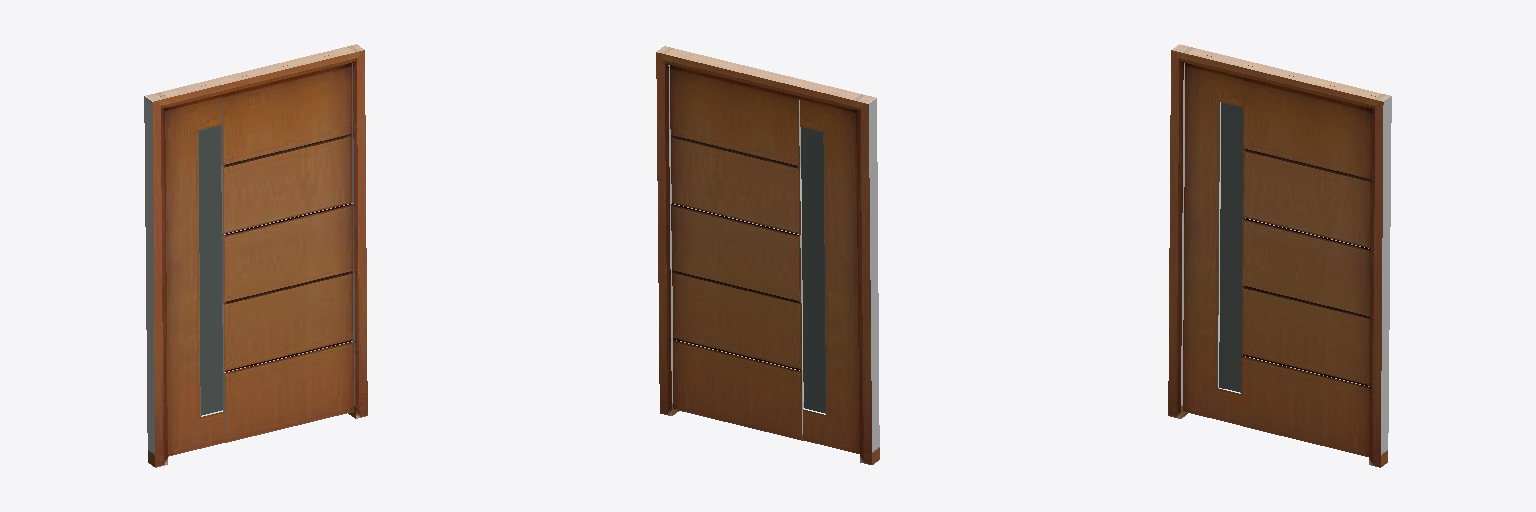
3 views of the same model, side by side, from view 1: azimuth 30°, elevation 25°; view 2: azimuth 150°, elevation 25°; view 3: azimuth 330°, elevation 25° (orthographic).
Visible parts, largest first — view 1: instance_0_ID112, instance_0.002_ID131, instance_5_ID245; view 2: instance_5_ID245, instance_5.002_ID259, instance_0_ID112; view 3: instance_0_ID112, instance_0.002_ID131, instance_5_ID245.
Part boxes in pixels (x1,y1,x2,y2): instance_0_ID112: (148,48,367,467); instance_0.002_ID131: (199,126,222,415); instance_5_ID245: (144,44,360,464); instance_5_ID245: (656,49,876,464); instance_5.002_ID259: (801,127,825,413); instance_0_ID112: (661,46,879,462); instance_0_ID112: (1168,48,1387,467); instance_0.002_ID131: (1219,103,1242,392); instance_5_ID245: (1175,44,1391,464).
Bounding box in the file's own units: 4.26 × 6.98 × 0.382.
3 materials, 1 textured.